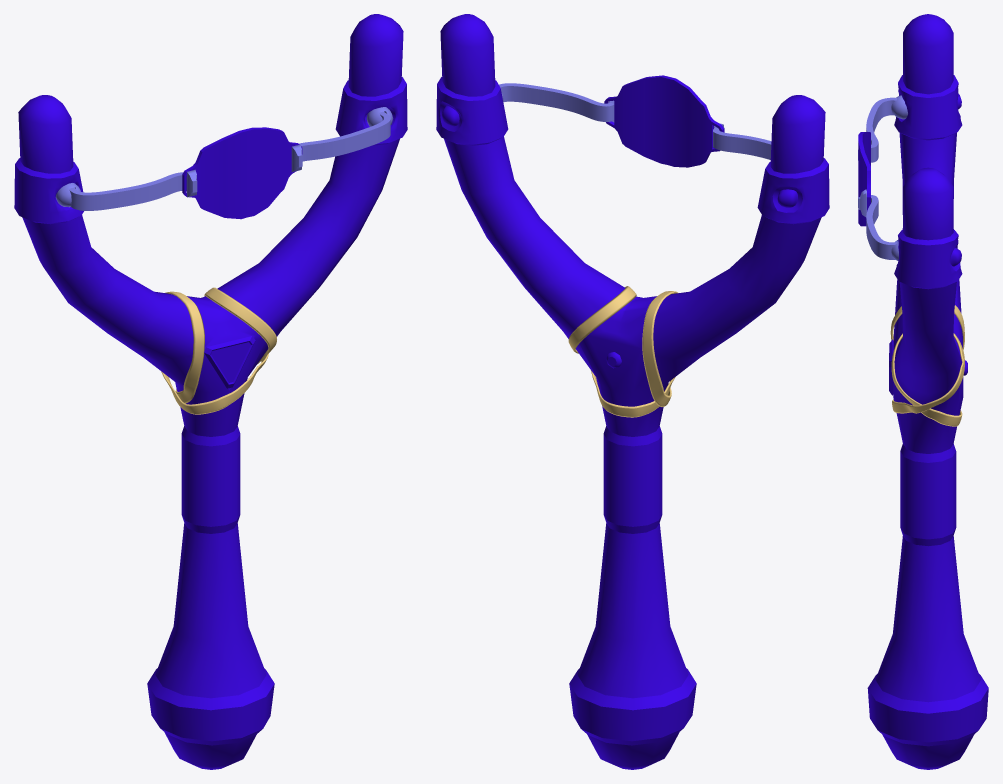
Rendered from Slingshot2.FBX.
The picture shows the model from 3 angles, left to right: view 1: azimuth 30°, elevation 25°; view 2: azimuth 150°, elevation 25°; view 3: azimuth 270°, elevation 25°; orthographic projection. The views are drawn at different scales.
Visible parts, largest first — view 1: slingshotbase; view 2: slingshotbase; view 3: slingshotbase.
Boxes of the visible parts, box(x1,y1,x2,y2) form: slingshotbase: box(14, 14, 407, 769); slingshotbase: box(436, 14, 829, 769); slingshotbase: box(858, 14, 988, 769).
Bounding box in the file's own units: 166 × 291 × 51.44.
